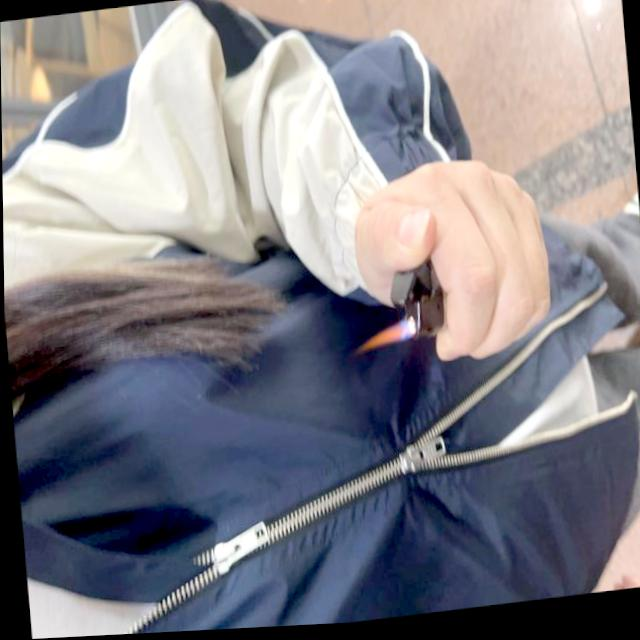Fire: (357, 323, 407, 356)
